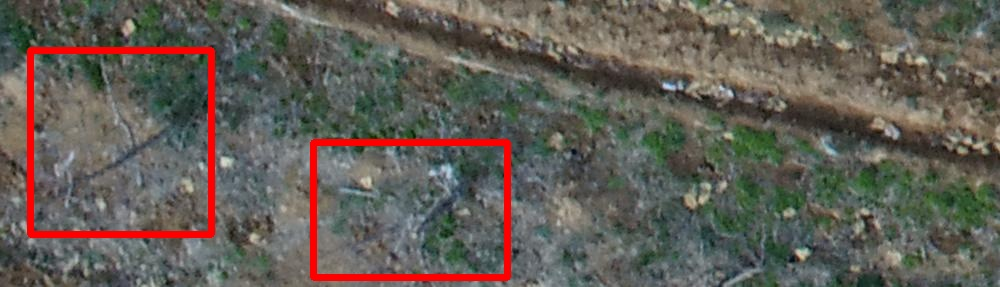apple: (30, 50, 211, 234), (313, 142, 507, 277)
